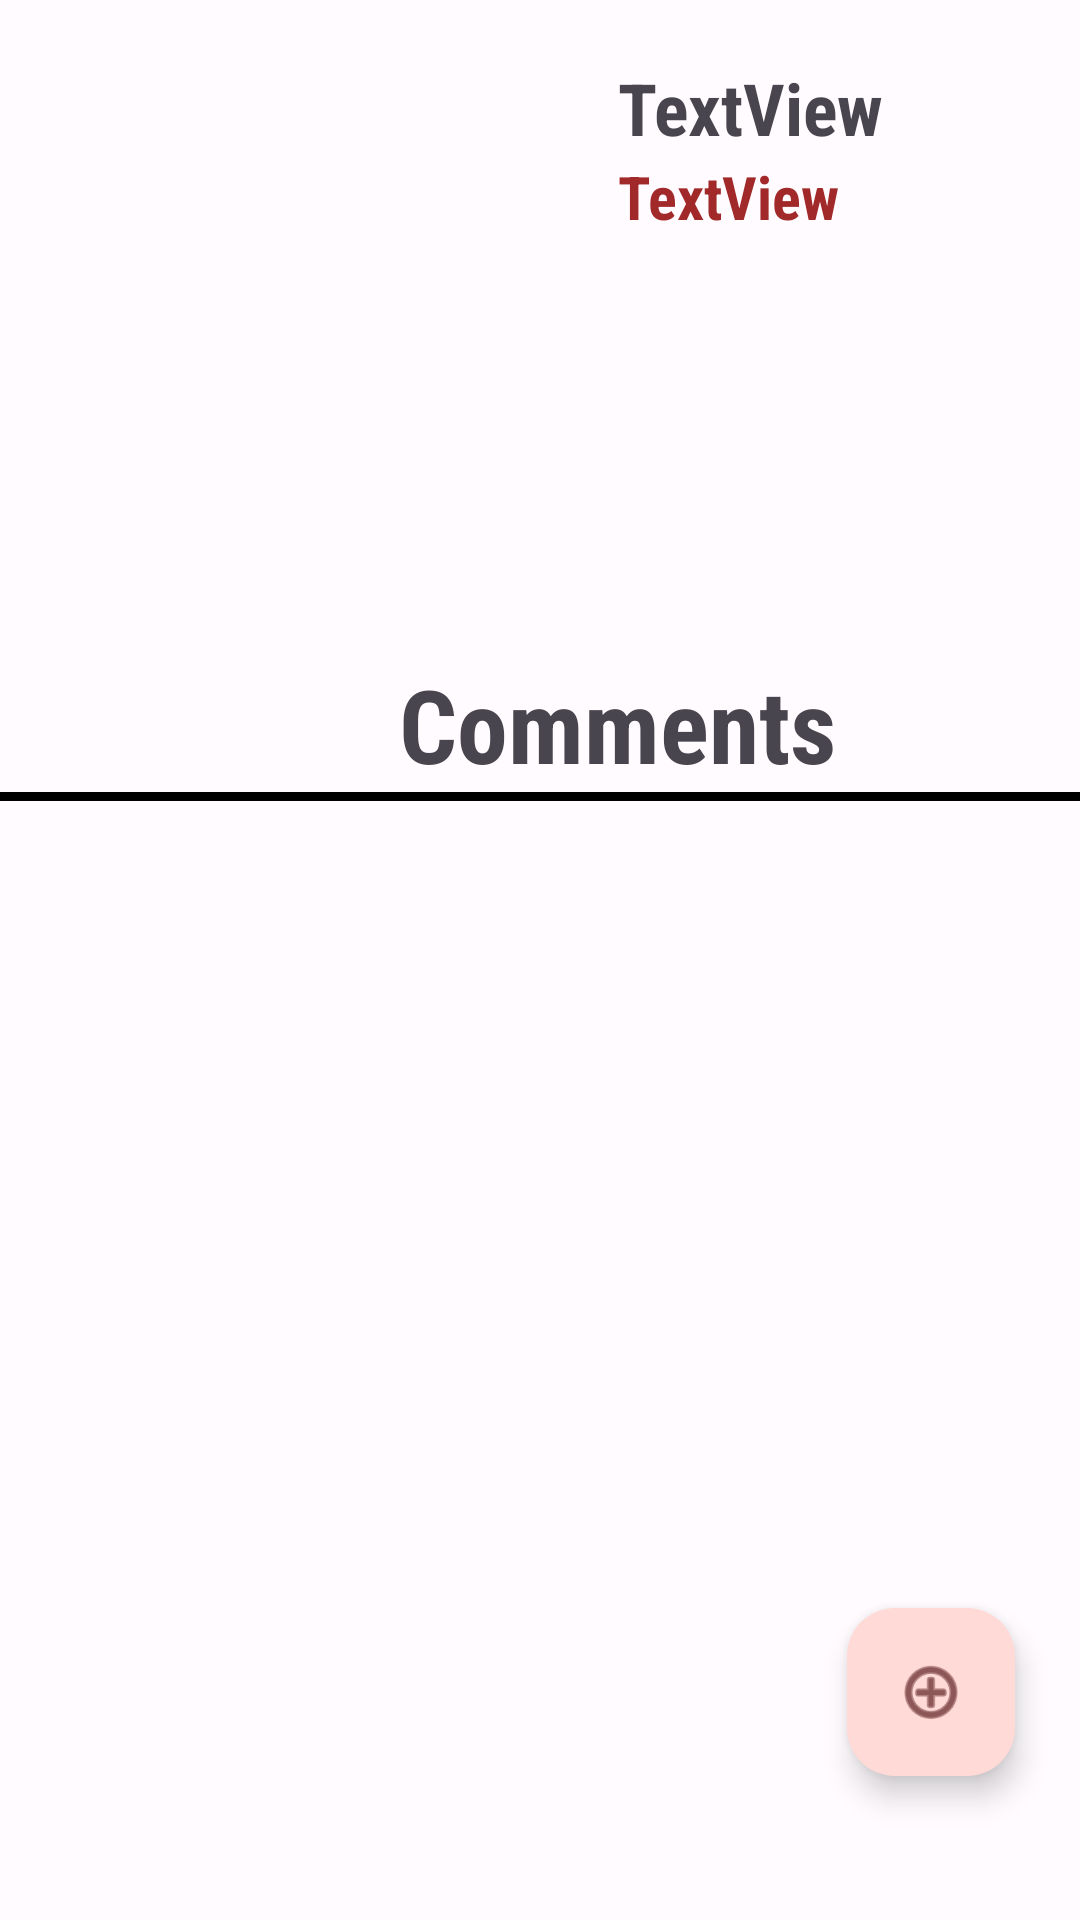

Point at icon controls on the screen. Image size 1080x1920, points as point (x, y).
add: point (931, 1692)
